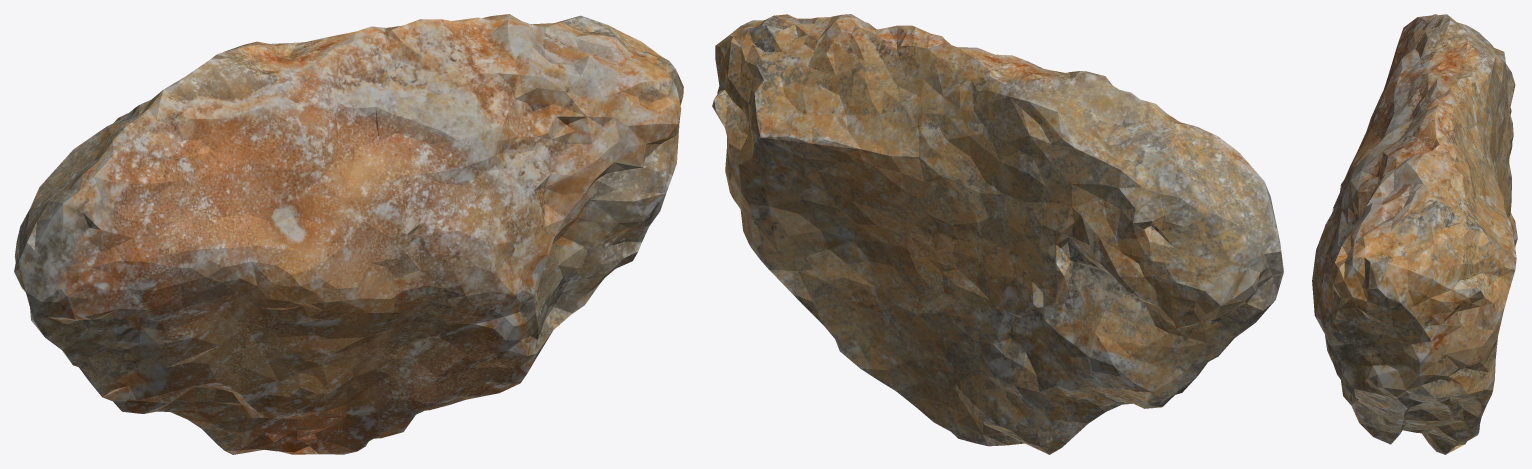
Rendered from stone_01.dae.
The picture shows the model from 3 angles, left to right: view 1: azimuth 30°, elevation 25°; view 2: azimuth 150°, elevation 25°; view 3: azimuth 270°, elevation 25°; orthographic projection. The views are drawn at different scales.
Parts seen in each view (by area): view 1: node; view 2: node; view 3: node.
Boxes of the visible parts, x1=… form: node: x1=14, y1=14, x2=683, y2=454; node: x1=712, y1=14, x2=1283, y2=454; node: x1=1312, y1=14, x2=1517, y2=454.
Size of the model in its own units: 1 by 0.6424 by 0.3266.
1 material, 1 textured.
